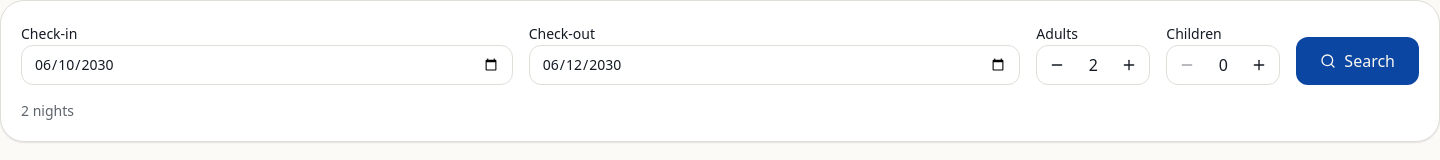
Test case: StaySearchForm › blocks searching when check-out is not after check-in
This screenshot has width=1440, height=160.
Type "2030-06-10" into the date field labelled "Check-out" at (775, 65), box [529,45,1020,85]
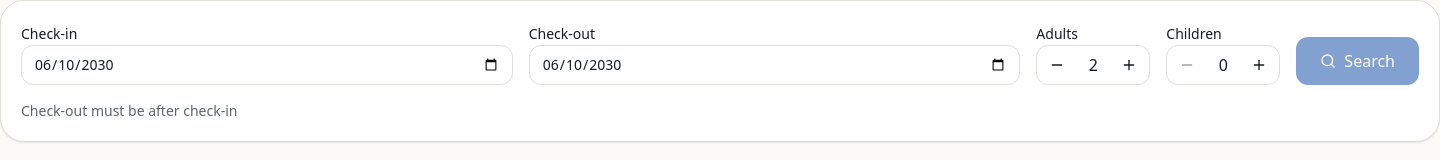
Result: the text "Check-out must be after check-in" is shown at [21,101,238,120]
Result: the button "Search" is disabled at [1296,37,1419,85]
